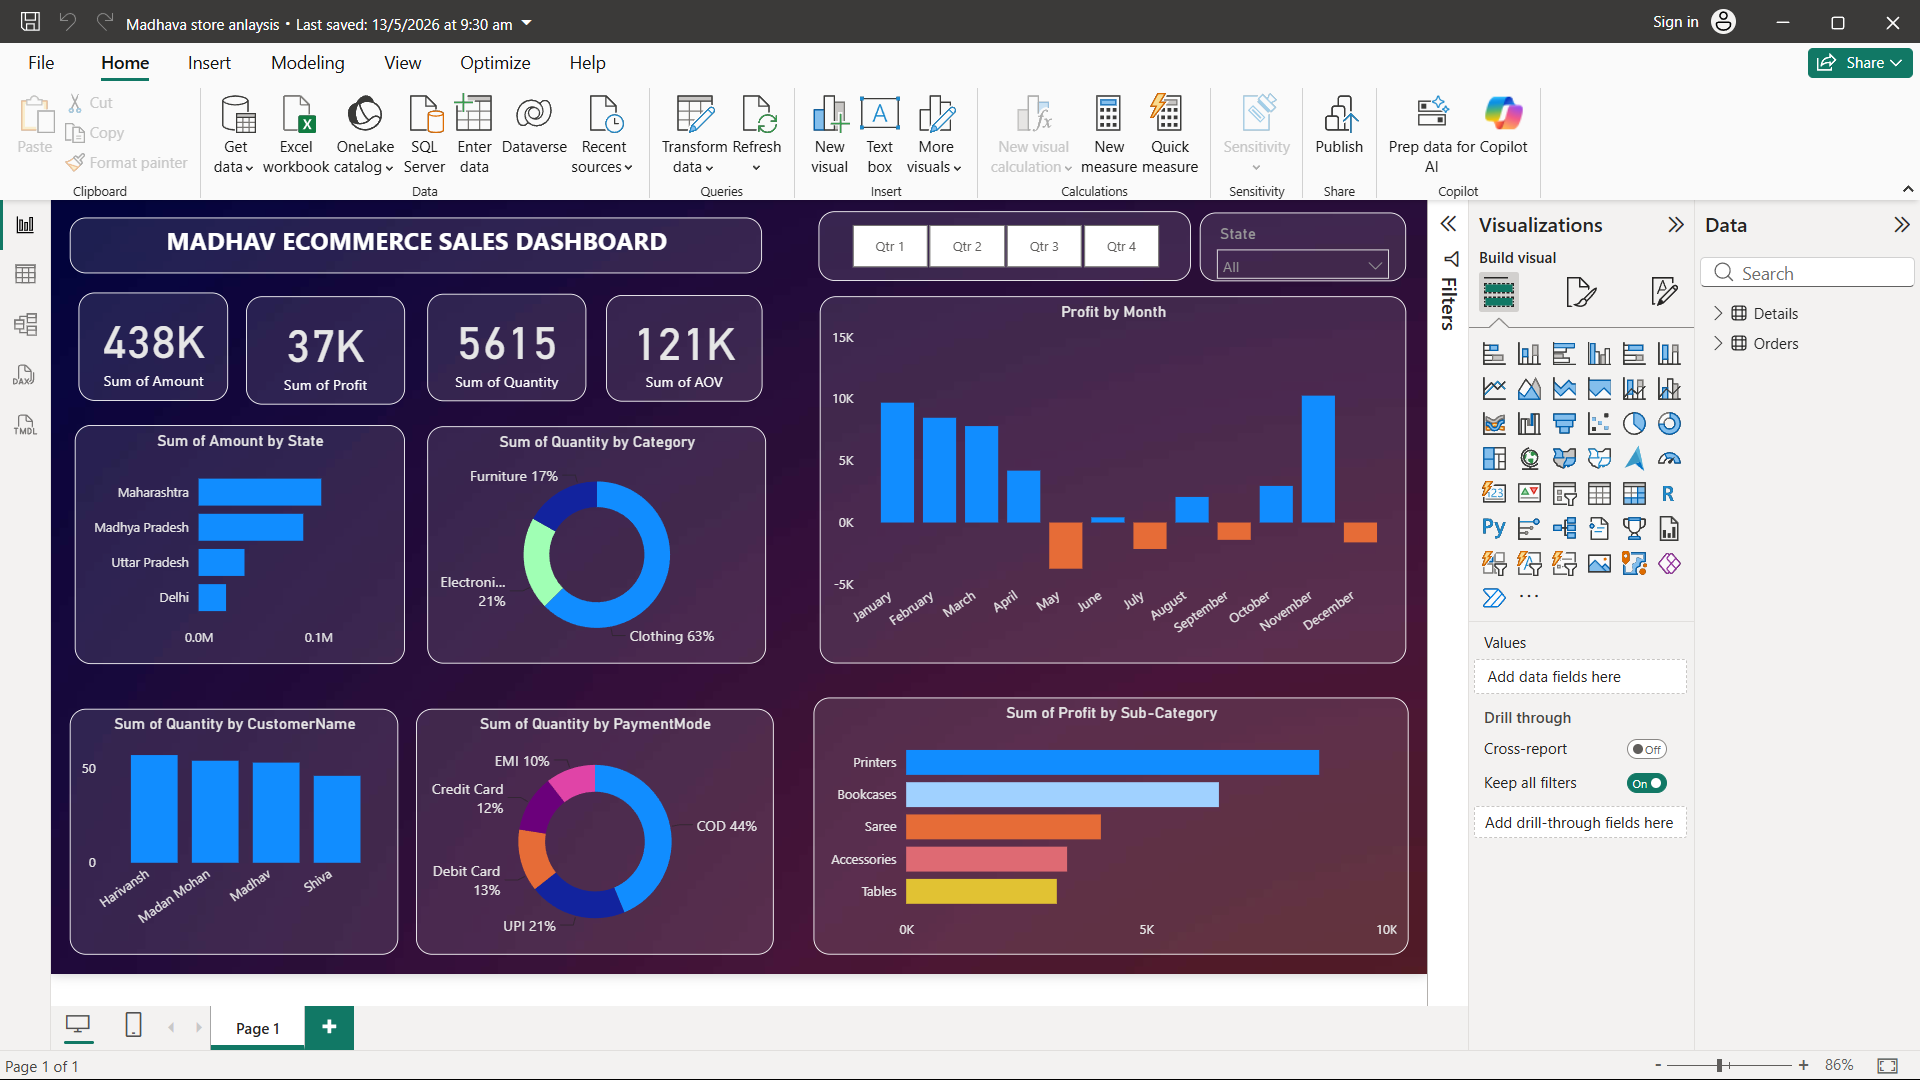

The page's visual inventory and layout, read from the dashboard file:
{"tool":"powerbi","page":{"name":"Page 1","canvas":[1280,720],"ordinal":0},"visuals":[{"type":"columnChart","title":" Profit by Month","fields":{"Category":["Orders.Order Date.Variation.Date Hierarchy.Month"],"Y":["Sum(Details.Profit)"]},"box":[715.1,89.5,545.4,341.9],"z":0},{"type":"barChart","fields":{"Y":["Sum(Details.Profit)"],"Category":["Details.Sub-Category"]},"box":[709.3,462.8,553.5,239.5],"z":1000},{"type":"donutChart","fields":{"Category":["Details.Category"],"Y":["Sum(Details.Quantity)"]},"box":[350,210.5,315.1,220.9],"z":2000},{"type":"donutChart","fields":{"Y":["Sum(Details.Quantity)"],"Category":["Details.PaymentMode"]},"box":[339.5,473.3,332.6,229.1],"z":3000},{"type":"card","fields":{"Values":["Sum(Details.Amount)"]},"box":[25.6,86,139.5,101.2],"z":4000},{"type":"card","fields":{"Values":["Sum(Details.Profit)"]},"box":[181.4,89.5,147.7,101.2],"z":5000},{"type":"card","fields":{"Values":["Sum(Details.Quantity)"]},"box":[350,87.2,147.7,100],"z":6000},{"type":"card","fields":{"Values":["Sum(Details.AOV)"]},"box":[516.3,88.4,145.3,98.8],"z":7000},{"type":"barChart","fields":{"Category":["Orders.State"],"Y":["Sum(Details.Amount)"]},"box":[22.1,209.3,307,222.1],"z":8000},{"type":"columnChart","fields":{"Category":["Orders.CustomerName"],"Y":["Sum(Details.Quantity)"]},"box":[17.4,473.3,305.8,229.1],"z":9000},{"type":"textbox","title":"MADHAV ECOMMERCE SALES DASHBOARD","box":[17.4,16.3,644.2,52.3],"z":10000},{"type":"slicer","fields":{"Values":["Orders.Order Date.Variation.Date Hierarchy.Quarter"]},"box":[714,10.5,346.5,65.1],"z":11000},{"type":"slicer","fields":{"Values":["Orders.State"]},"box":[1068.6,11.6,191.9,64],"z":12000}]}

Visuals, with their boxes on the page's 1280x720 design canvas (x1, y1, x2, y2). These are canvas units, not pixel positions in the 1920x1080 screenshot, which may show the page scaled, cropped or inside an application window:
" Profit by Month" columnChart: left=715, top=90, right=1260, bottom=431
barChart - Sum(Details.Profit) x Details.Sub-Category: left=709, top=463, right=1263, bottom=702
donutChart - Details.Category x Sum(Details.Quantity): left=350, top=210, right=665, bottom=431
donutChart - Sum(Details.Quantity) x Details.PaymentMode: left=340, top=473, right=672, bottom=702
card - Sum(Details.Amount): left=26, top=86, right=165, bottom=187
card - Sum(Details.Profit): left=181, top=90, right=329, bottom=191
card - Sum(Details.Quantity): left=350, top=87, right=498, bottom=187
card - Sum(Details.AOV): left=516, top=88, right=662, bottom=187
barChart - Orders.State x Sum(Details.Amount): left=22, top=209, right=329, bottom=431
columnChart - Orders.CustomerName x Sum(Details.Quantity): left=17, top=473, right=323, bottom=702
"MADHAV ECOMMERCE SALES DASHBOARD" textbox: left=17, top=16, right=662, bottom=69
slicer - Orders.Order Date.Variation.Date Hierarchy.Quarter: left=714, top=10, right=1060, bottom=76
slicer - Orders.State: left=1069, top=12, right=1260, bottom=76
